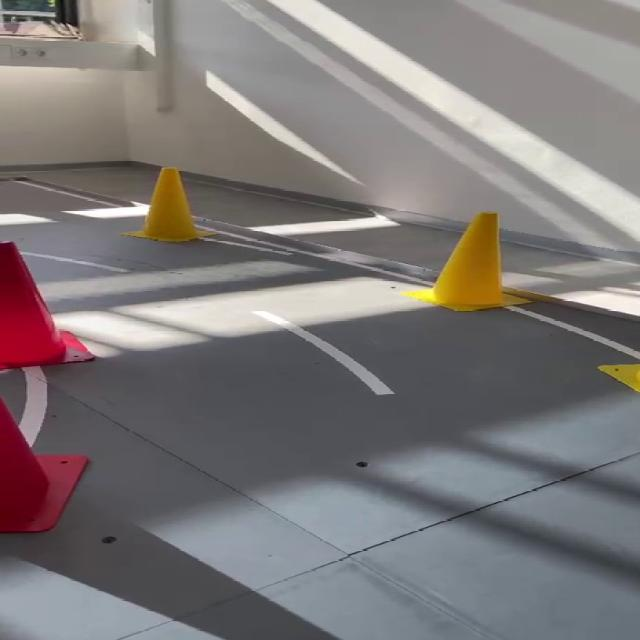Cone-red: (0, 242, 94, 370), (0, 397, 88, 532)
Cones-yellow: (406, 212, 509, 311), (126, 168, 206, 241), (600, 364, 639, 392)
